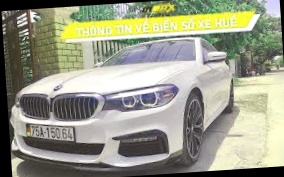Bien-so: (30, 120, 75, 144)
